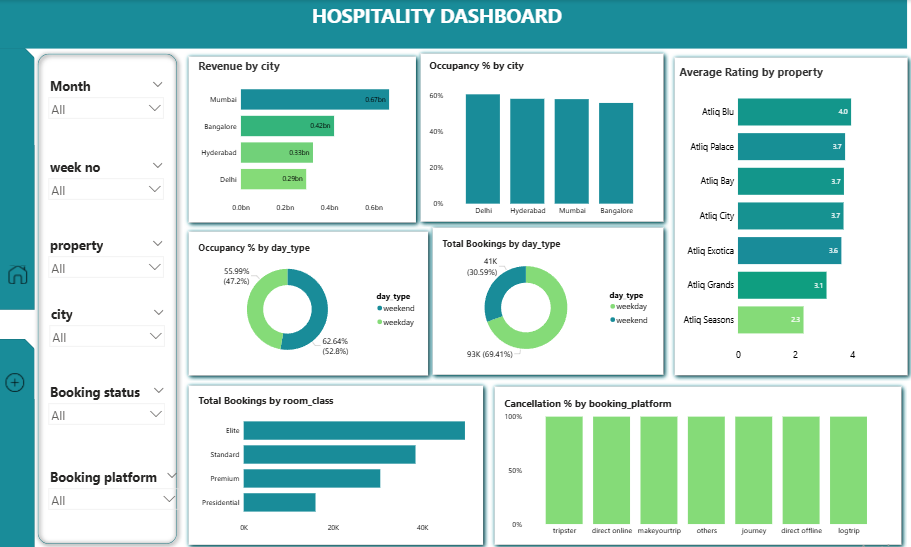

The page's visual inventory and layout, read from the dashboard file:
{"tool":"powerbi","page":{"name":"drill down Analysis","canvas":[2000,1200],"ordinal":1},"visuals":[{"type":"shape","box":[408,110.4,520.8,386.4],"z":0},{"type":"clusteredBarChart","fields":{"Category":["dim_hotels.city"],"Y":["key_measures.Revenue"]},"box":[436.8,127.2,477.6,345.6],"z":1000},{"type":"shape","box":[914.4,105.6,554.4,391.2],"z":2000},{"type":"shape","box":[78.9,105.3,328.9,1094.7],"z":3000},{"type":"slicer","fields":{"Values":["dim_date.mmm yy"]},"box":[105.3,163.2,271.1,136.8],"z":4000},{"type":"slicer","fields":{"Values":["dim_date.week no"]},"box":[105.3,339.5,271.1,144.7],"z":5000},{"type":"slicer","fields":{"Values":["dim_hotels.property_name"]},"box":[105.3,510.5,271.1,142.1],"z":6000},{"type":"slicer","fields":{"Values":["dim_hotels.city"]},"box":[107.9,660.5,271.1,121.1],"z":7000},{"type":"shape","box":[1468.8,112.8,532.8,717.6],"z":8000},{"type":"shape","box":[0,105.6,84,571.2],"z":9000},{"type":"shape","box":[0,739.2,84,460.8],"z":10000},{"type":"shape","box":[0,0,1987.8,106.1],"z":11000},{"type":"textbox","box":[11,0,1889.8,94.6],"z":12000},{"type":"columnChart","fields":{"Category":["dim_hotels.city"],"Y":["key_measures.Occupancy %"]},"box":[940.8,127.2,496.8,352.8],"z":13000},{"type":"clusteredBarChart","title":"Average Rating by property","fields":{"Y":["key_measures.Average Rating"],"Category":["dim_hotels.property_name"]},"box":[1485.6,139.2,494.4,657.6],"z":14000},{"type":"shape","box":[408,828,667.2,372],"z":15000},{"type":"shape","box":[1075.2,830.4,912,369.6],"z":16000},{"type":"shape","box":[408,492,547.2,338.4],"z":17000},{"type":"barChart","fields":{"Y":["key_measures.Total Bookings"],"Category":["dim_rooms.room_class"]},"box":[436.8,856.8,609.6,314.4],"z":18000},{"type":"hundredPercentStackedColumnChart","fields":{"Y":["key_measures.Cancellation %"],"Category":["fact_bookings.booking_platform"]},"box":[1104,864,844.8,314.4],"z":19000},{"type":"shape","box":[940.8,484.8,528,345.6],"z":20000},{"type":"donutChart","fields":{"Y":["key_measures.Occupancy %"],"Category":["dim_date.day_type"]},"box":[436.8,525.6,492,271.2],"z":21000},{"type":"donutChart","fields":{"Y":["key_measures.Total Bookings"],"Category":["dim_date.day_type"]},"box":[969.6,516,468,280.8],"z":22000},{"type":"slicer","fields":{"Values":["fact_bookings.booking_platform"]},"box":[105.3,1015.8,302.6,155.3],"z":23000},{"type":"slicer","fields":{"Values":["dim_date.mmm yy","fact_bookings.booking_status"]},"box":[105.3,831.6,273.7,155.3],"z":24000},{"type":"actionButton","box":[14.4,520.8,64.8,156],"z":25000},{"type":"actionButton","box":[9.6,758.4,64.8,151.2],"z":26000}]}

Visuals, with their boxes in screenshot pixels (x1, y1, x2, y2), scaled from the page's 2000x1200 canvas onto the 911x547 screenshot:
shape: <region>186, 50, 423, 226</region>
clusteredBarChart - dim_hotels.city x key_measures.Revenue: <region>199, 58, 417, 216</region>
shape: <region>417, 48, 669, 226</region>
shape: <region>36, 48, 186, 546</region>
slicer - dim_date.mmm yy: <region>48, 74, 171, 137</region>
slicer - dim_date.week no: <region>48, 155, 171, 221</region>
slicer - dim_hotels.property_name: <region>48, 233, 171, 297</region>
slicer - dim_hotels.city: <region>49, 301, 173, 356</region>
shape: <region>669, 51, 910, 379</region>
shape: <region>0, 48, 38, 309</region>
shape: <region>0, 337, 38, 546</region>
shape: <region>0, 0, 905, 48</region>
textbox: <region>5, 0, 866, 43</region>
columnChart - dim_hotels.city x key_measures.Occupancy %: <region>429, 58, 655, 219</region>
"Average Rating by property" clusteredBarChart: <region>677, 63, 902, 363</region>
shape: <region>186, 377, 490, 546</region>
shape: <region>490, 379, 905, 546</region>
shape: <region>186, 224, 435, 379</region>
barChart - key_measures.Total Bookings x dim_rooms.room_class: <region>199, 391, 477, 534</region>
hundredPercentStackedColumnChart - key_measures.Cancellation % x fact_bookings.booking_platform: <region>503, 394, 888, 537</region>
shape: <region>429, 221, 669, 379</region>
donutChart - key_measures.Occupancy % x dim_date.day_type: <region>199, 240, 423, 363</region>
donutChart - key_measures.Total Bookings x dim_date.day_type: <region>442, 235, 655, 363</region>
slicer - fact_bookings.booking_platform: <region>48, 463, 186, 534</region>
slicer - dim_date.mmm yy x fact_bookings.booking_status: <region>48, 379, 173, 450</region>
actionButton: <region>7, 237, 36, 309</region>
actionButton: <region>4, 346, 34, 415</region>
